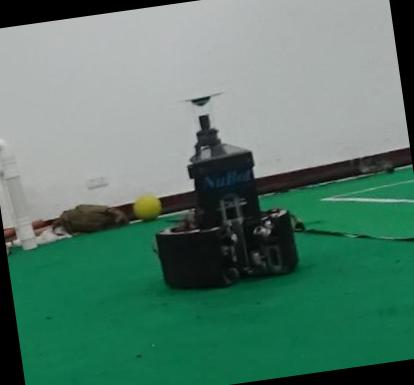ball: (133, 194, 161, 219)
robot: (155, 93, 298, 286)
